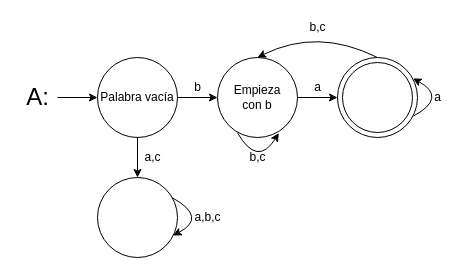
Some shapes in this 464 by 275 pixel diagram are drawn without their labels. Here are the shapes that lost their labels. From the top down, the centre of each, then its label:
At (x=377, y=97): "Termina con a".
At (x=137, y=217): "No empieza con b".
